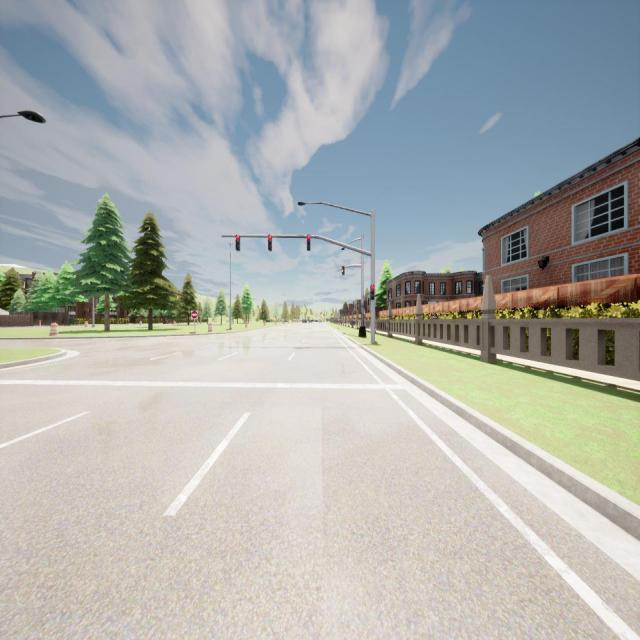Traffic_Signs: (191, 310, 198, 320)
Vehicle: (302, 318, 307, 324), (312, 319, 318, 323), (308, 319, 312, 323), (319, 319, 322, 323)
traffic_light: (236, 236, 240, 252), (306, 235, 310, 251), (370, 285, 374, 300), (268, 236, 272, 250), (342, 266, 344, 275)
